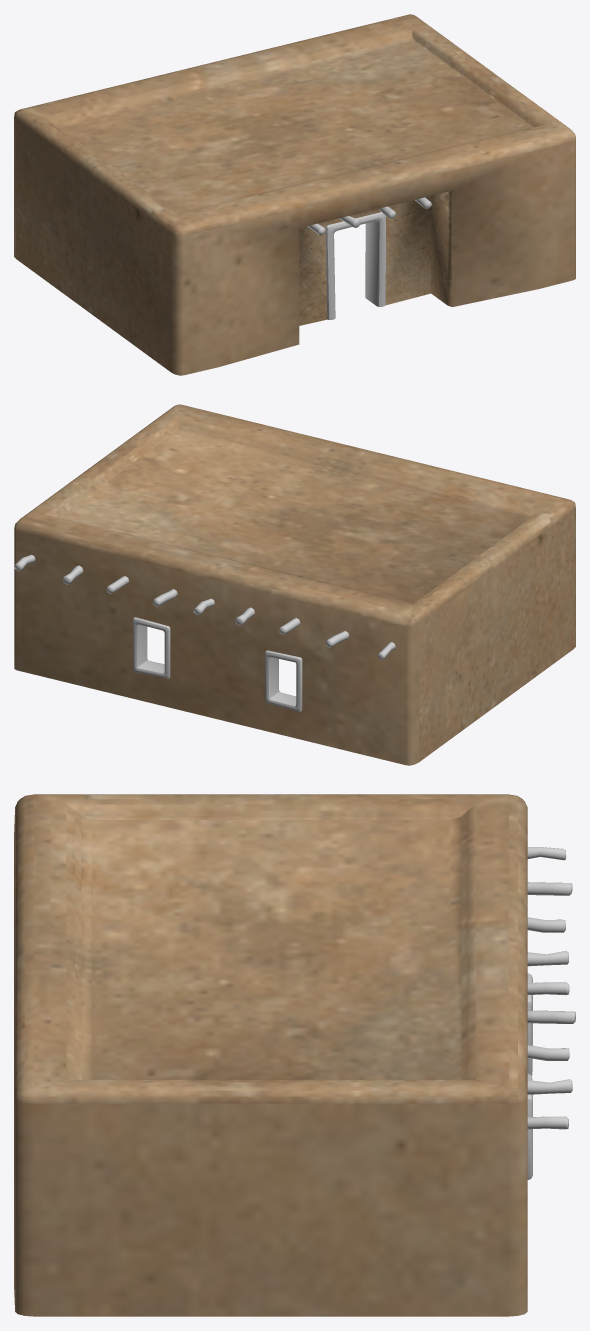
File: Type1_5.fbx
3 renders of one model, top to bottom at view 1: azimuth 30°, elevation 25°; view 2: azimuth 150°, elevation 25°; view 3: azimuth 270°, elevation 25°, orthographic. The views are drawn at different scales.
Visible parts, largest first — view 1: MAINWALL.004, WOODENPARTS.018; view 2: MAINWALL.004, WOODENPARTS.018; view 3: MAINWALL.004, WOODENPARTS.018.
Part boxes in pixels (box(x1,y1,x2,y2)): MAINWALL.004: box(14, 14, 575, 375); WOODENPARTS.018: box(307, 197, 431, 319); MAINWALL.004: box(14, 404, 575, 765); WOODENPARTS.018: box(14, 554, 395, 711); MAINWALL.004: box(14, 794, 527, 1316); WOODENPARTS.018: box(527, 847, 575, 1179).
Bounding box in the file's own units: 1110 × 388 × 875.
